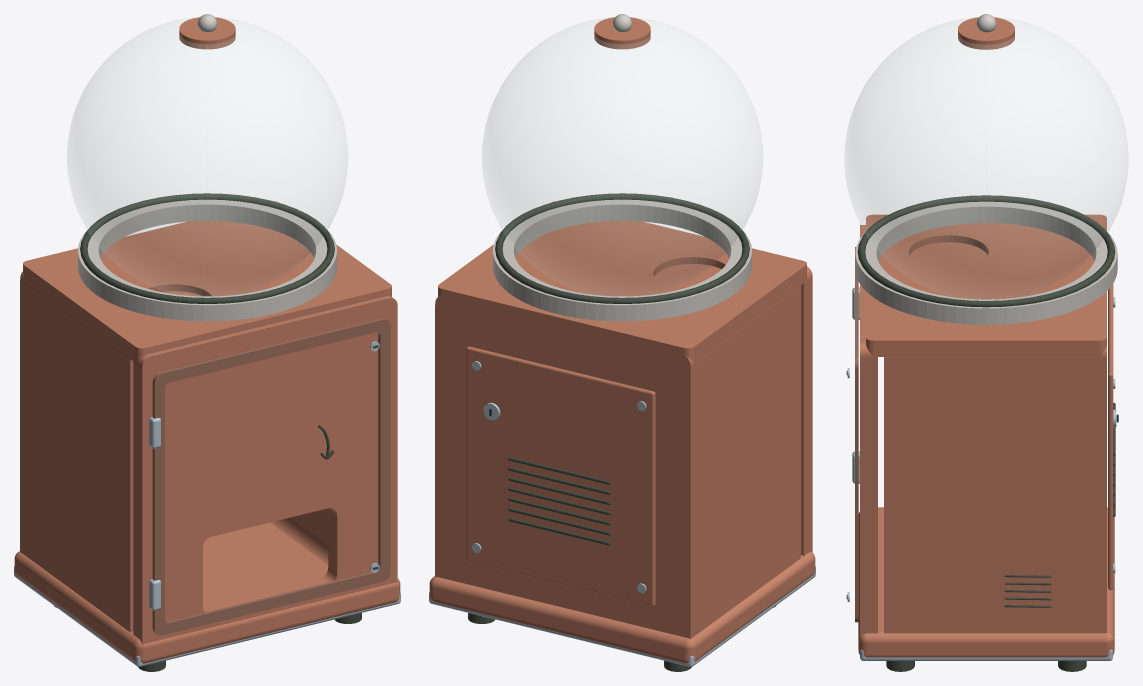
The model's file is machine-friends.glb.
The picture shows the model from 3 angles, left to right: view 1: azimuth 30°, elevation 25°; view 2: azimuth 150°, elevation 25°; view 3: azimuth 270°, elevation 25°; orthographic projection.
Visible parts, largest first — view 1: CabinetShell_Batch0, CabinetShell_Batch2, CabinetShell_Batch1; view 2: CabinetShell_Batch0, CabinetShell_Batch2, CabinetShell_Batch1; view 3: CabinetShell_Batch0, CabinetShell_Batch2, CabinetShell_Batch1.
Part boxes in pixels (x1=…): CabinetShell_Batch0: x1=14, y1=14, x2=400, y2=671; CabinetShell_Batch2: x1=67, y1=18, x2=347, y2=295; CabinetShell_Batch1: x1=14, y1=341, x2=400, y2=666; CabinetShell_Batch0: x1=429, y1=14, x2=815, y2=671; CabinetShell_Batch2: x1=482, y1=18, x2=762, y2=295; CabinetShell_Batch1: x1=429, y1=361, x2=815, y2=666; CabinetShell_Batch0: x1=846, y1=14, x2=1118, y2=671; CabinetShell_Batch2: x1=845, y1=18, x2=1127, y2=299; CabinetShell_Batch1: x1=847, y1=287, x2=1116, y2=660.
Size of the model in its own units: 0.206 by 0.4415 by 0.1889.
